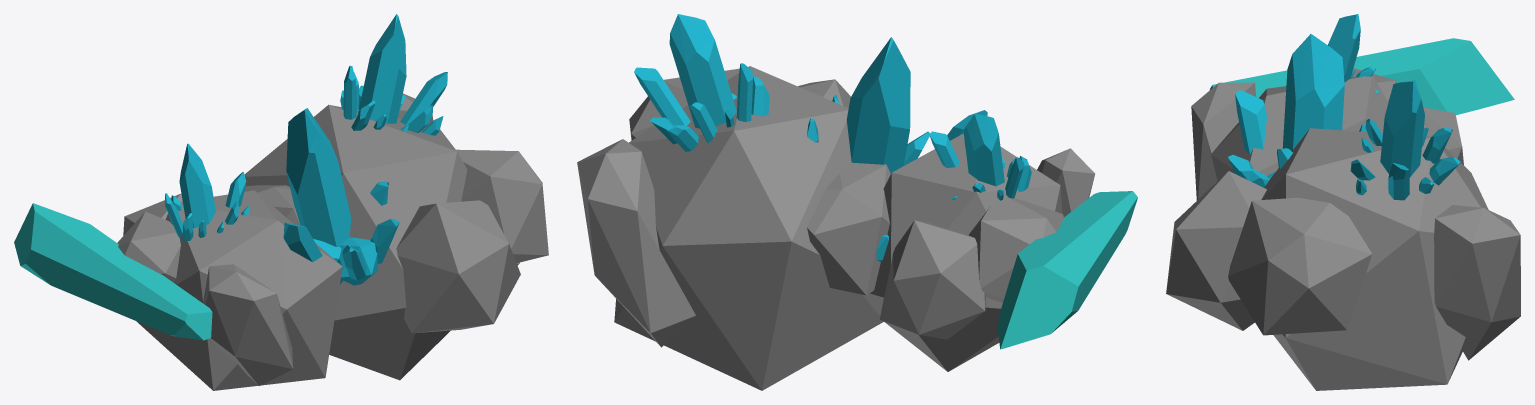
File: CrystalRocks6.fbx
The picture shows the model from 3 angles, left to right: view 1: azimuth 30°, elevation 25°; view 2: azimuth 150°, elevation 25°; view 3: azimuth 270°, elevation 25°; orthographic projection. The views are drawn at different scales.
Visible parts, largest first — view 1: Cube.010; view 2: Cube.010; view 3: Cube.010.
Boxes of the visible parts, box(x1,y1,x2,y2) form: Cube.010: box(14, 14, 548, 390); Cube.010: box(577, 14, 1137, 390); Cube.010: box(1166, 14, 1520, 390).
Size of the model in its own units: 840 by 565 by 546.
